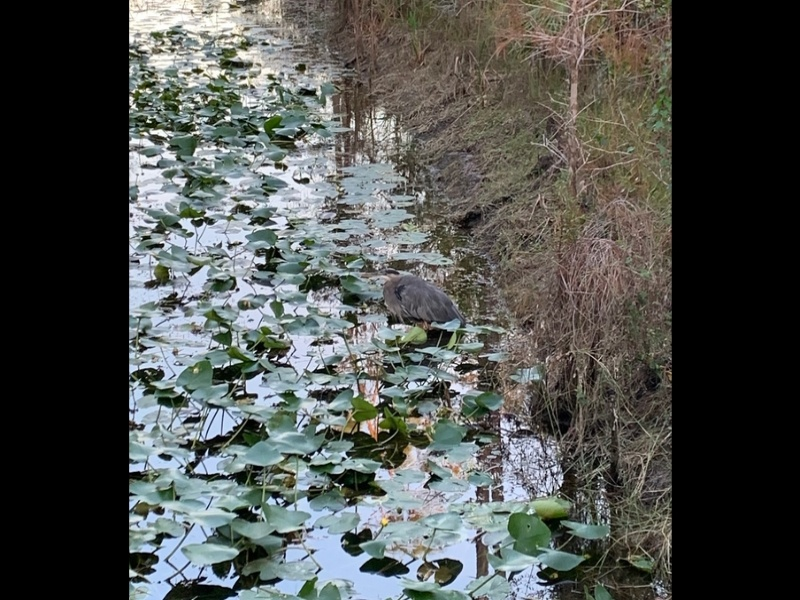heron: (382, 274, 462, 335)
